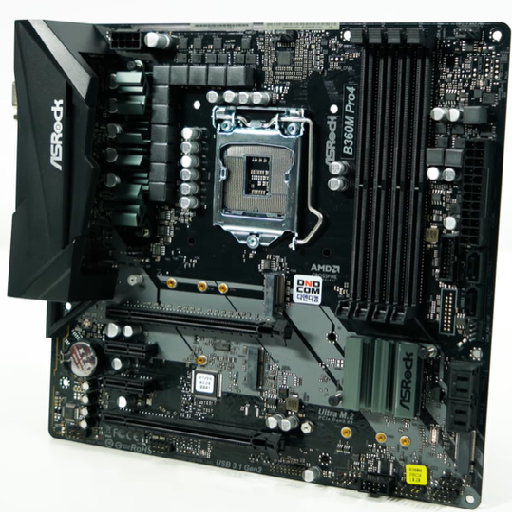CPU: (208, 102, 319, 251)
GPU: (102, 296, 293, 355), (100, 404, 283, 456)
MOTHERBOARD: (11, 16, 510, 509)
RAM: (339, 26, 442, 334)
SSD: (240, 344, 268, 392), (259, 273, 288, 318)
